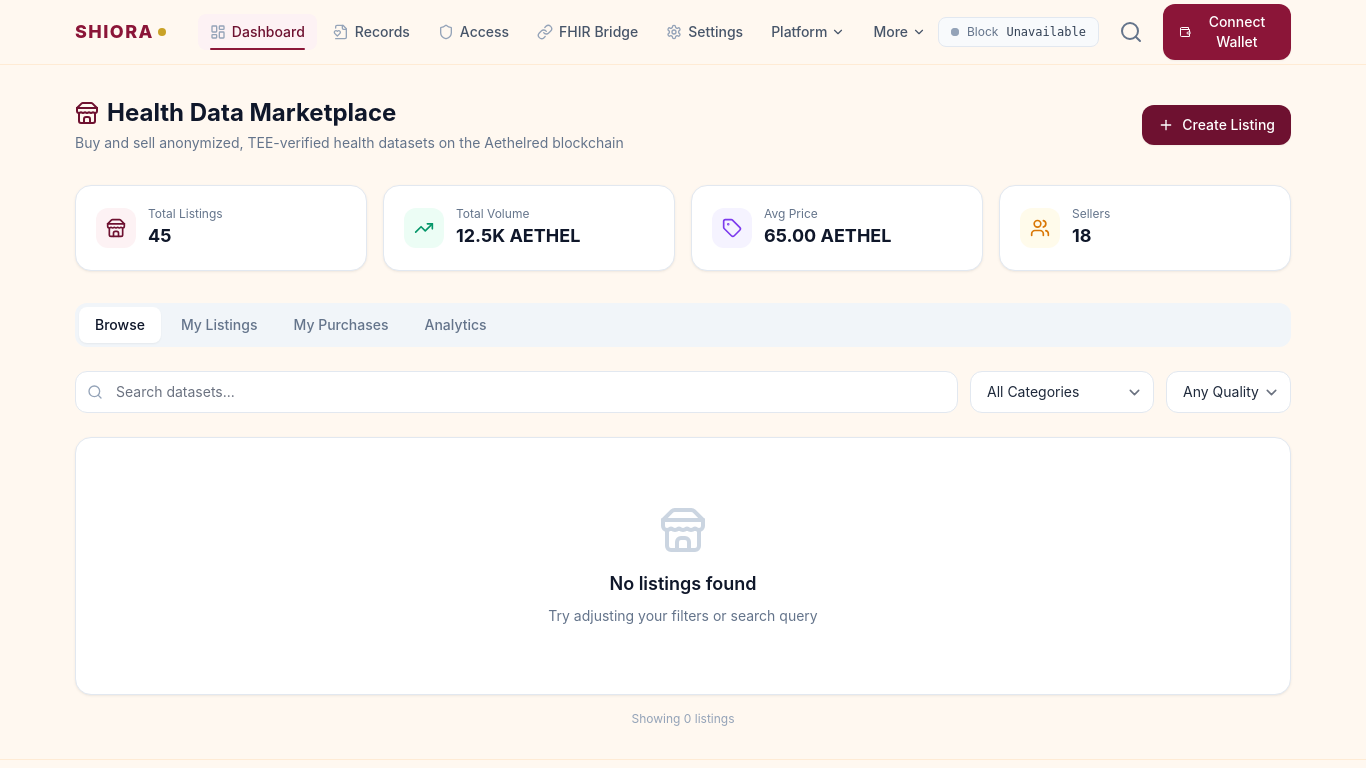
Scenario: MarketplacePage › shows empty state on My Listings when listings is empty
Click the tab "My Listings" at (219, 325), box [165, 307, 274, 343]
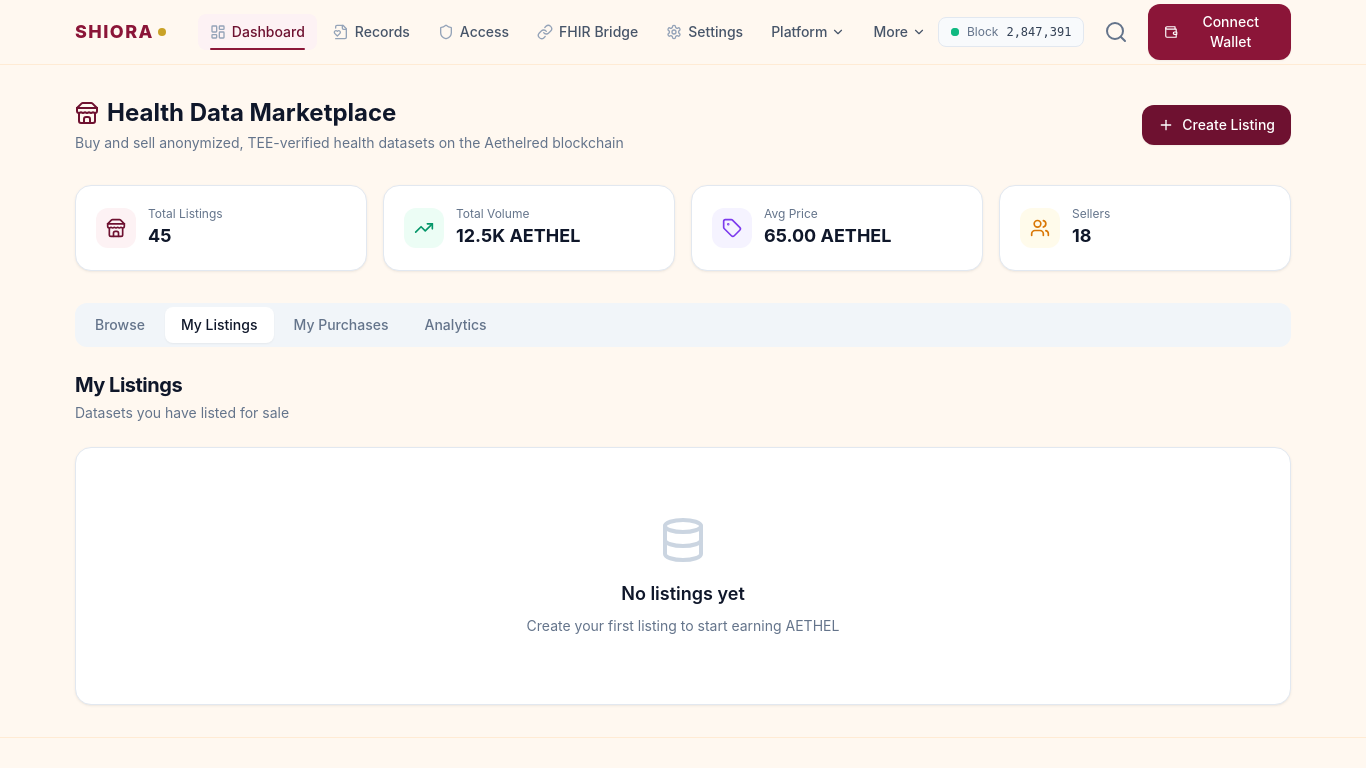
Check: the heading "No listings yet" is shown, box [621, 583, 745, 604]
